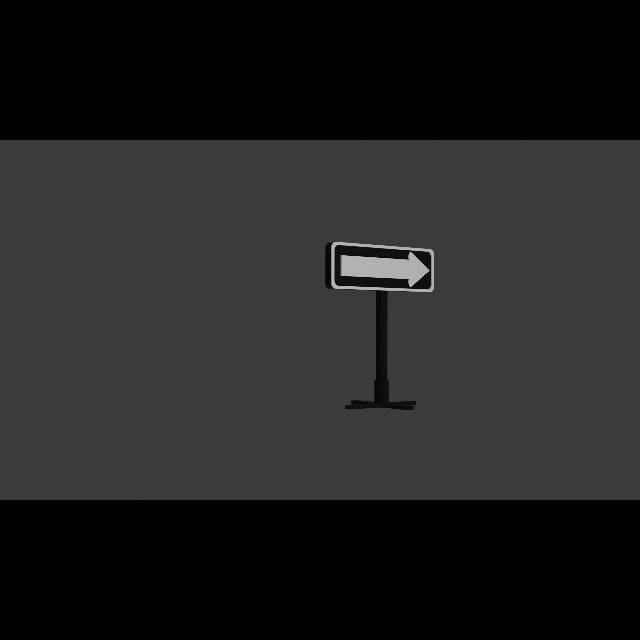sign_oneway_right: (327, 242, 436, 294)
